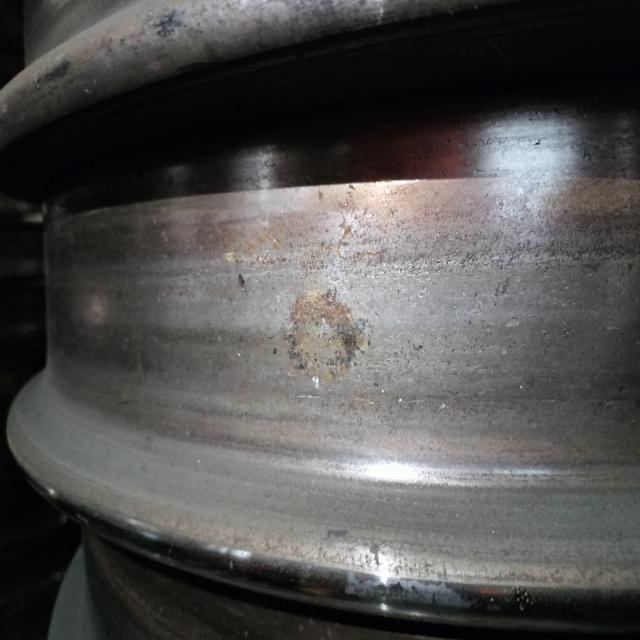Contact_Fatigue_Cracks: (378, 251, 624, 274)
Peeling: (241, 219, 365, 264)
